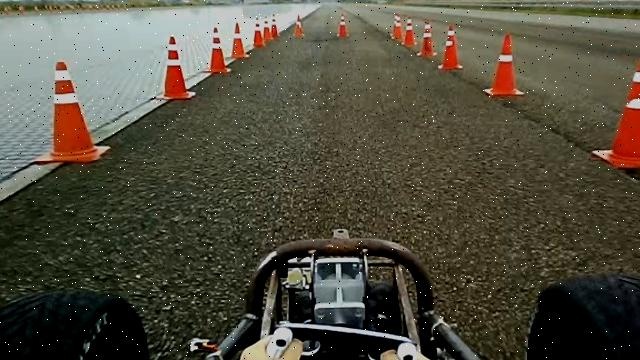red cone: (34, 60, 110, 164), (591, 56, 640, 169), (155, 35, 196, 100), (483, 34, 523, 97), (203, 26, 231, 74), (437, 25, 462, 71), (416, 20, 438, 56), (228, 21, 248, 59)
